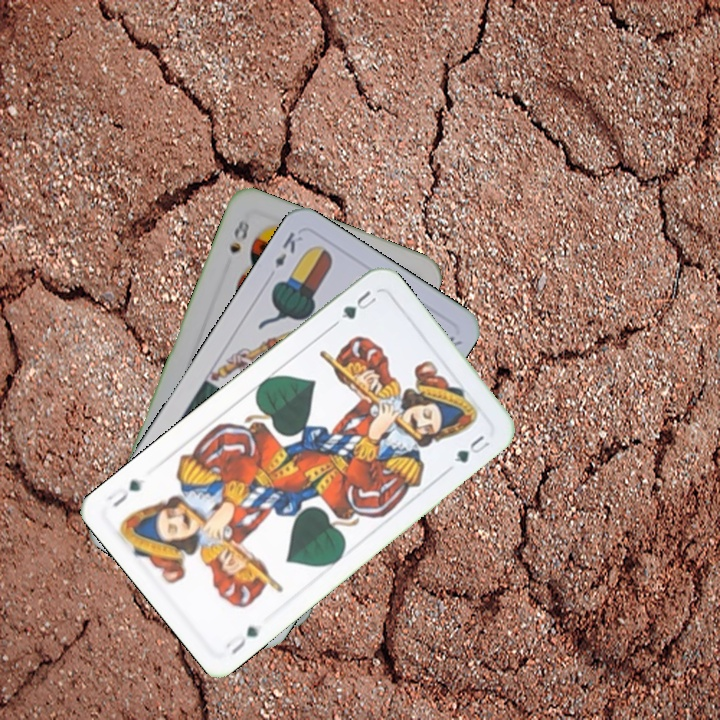EK: (270, 228, 306, 271)
GU: (337, 286, 381, 322), (221, 621, 261, 658)
S8: (225, 215, 252, 256)
